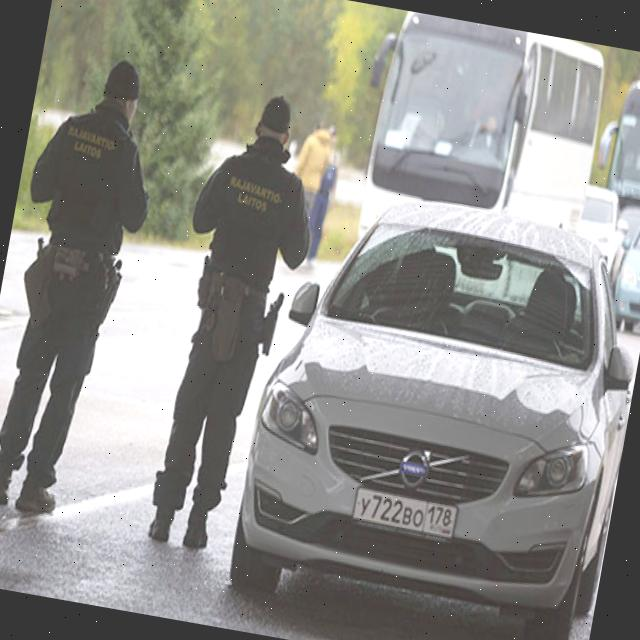number-plates: (348, 486, 459, 544)
